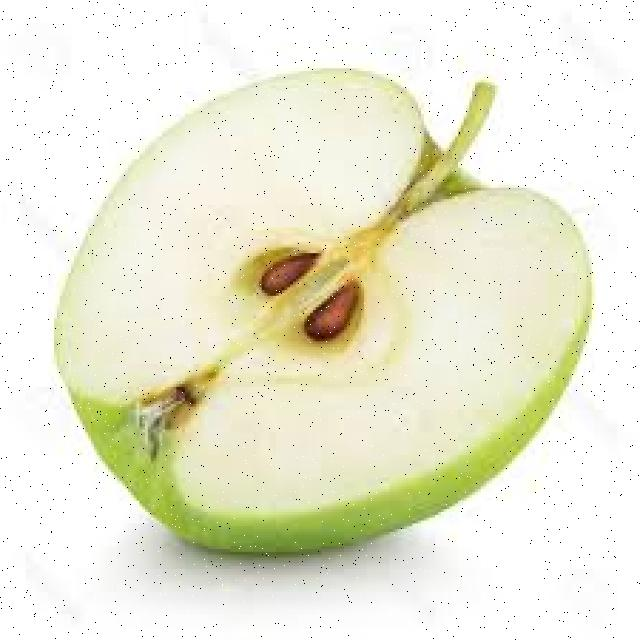Apple: (54, 68, 595, 561)
